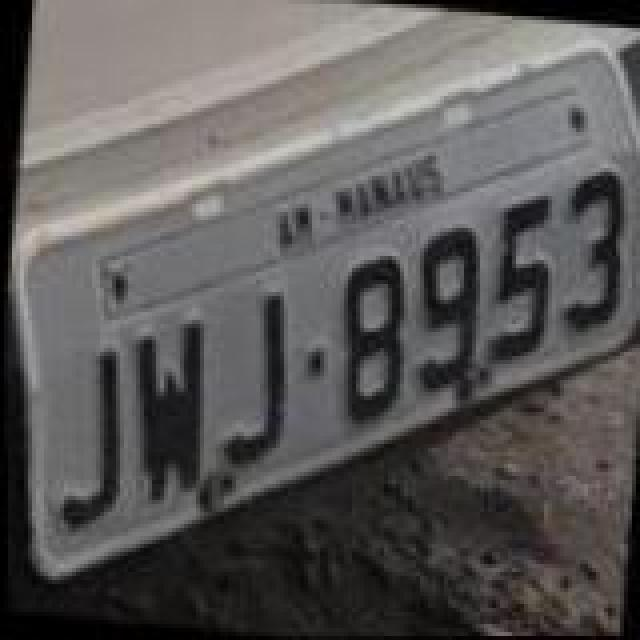3: (546, 164, 634, 344)
5: (480, 188, 564, 368)
8: (326, 246, 418, 426)
9: (398, 218, 490, 402)
J: (50, 344, 138, 536), (214, 288, 302, 472)
W: (112, 312, 216, 508)
